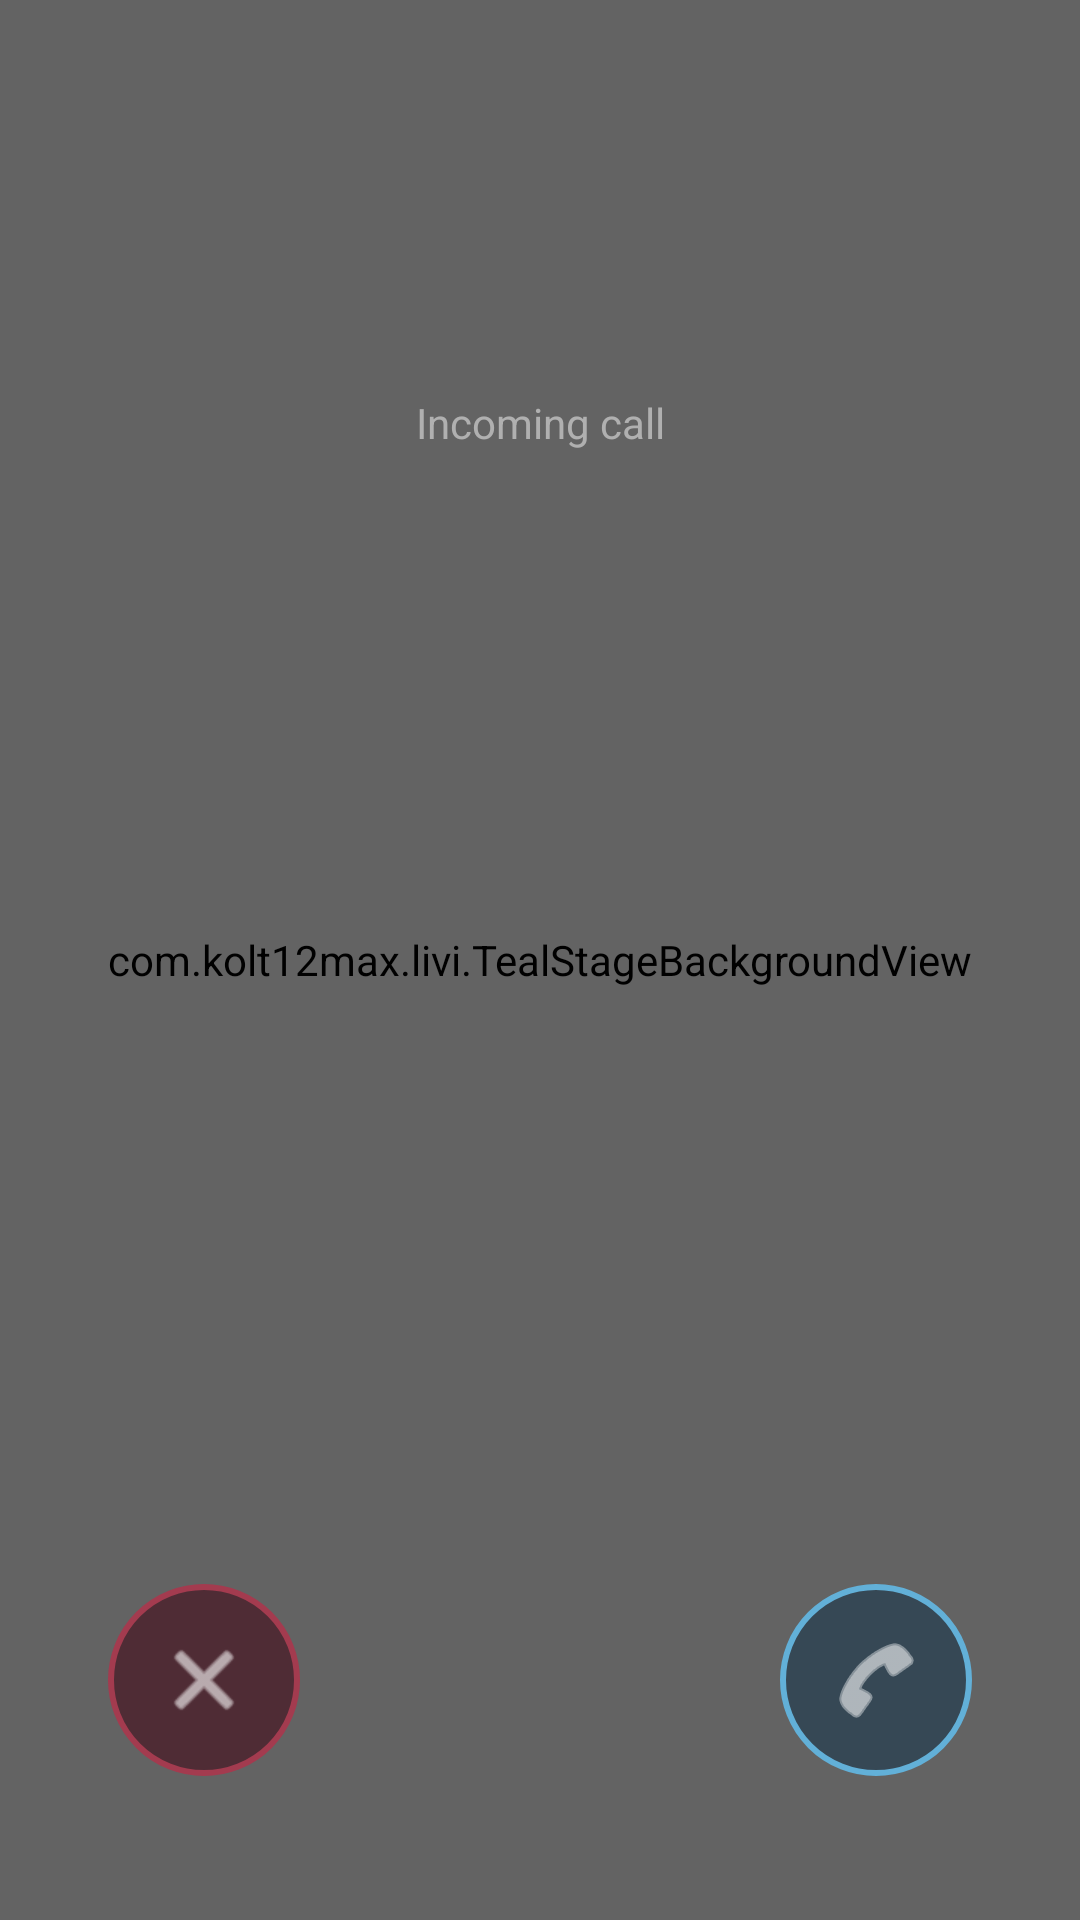

Screen size 1080px×1920px. Icon name, then its box in pixels as box=[x1, y1, x2, y2]:
Accept: box=[780, 1584, 972, 1776]
Decline: box=[108, 1584, 300, 1776]
